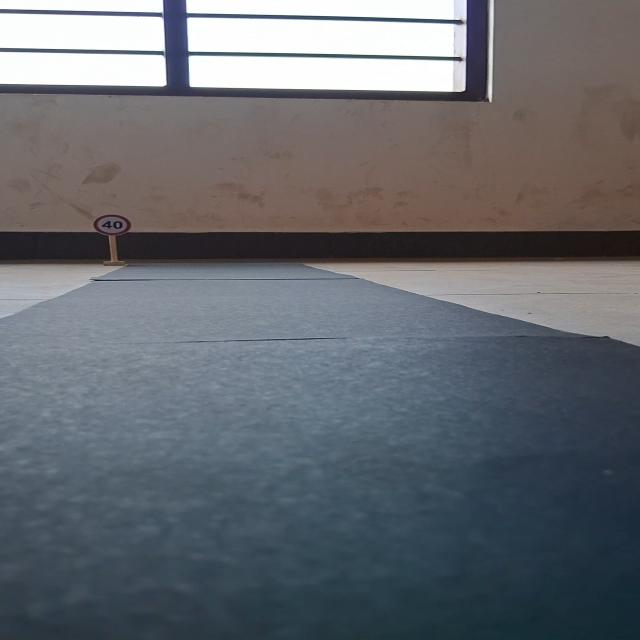Speed40: (89, 209, 138, 238)
